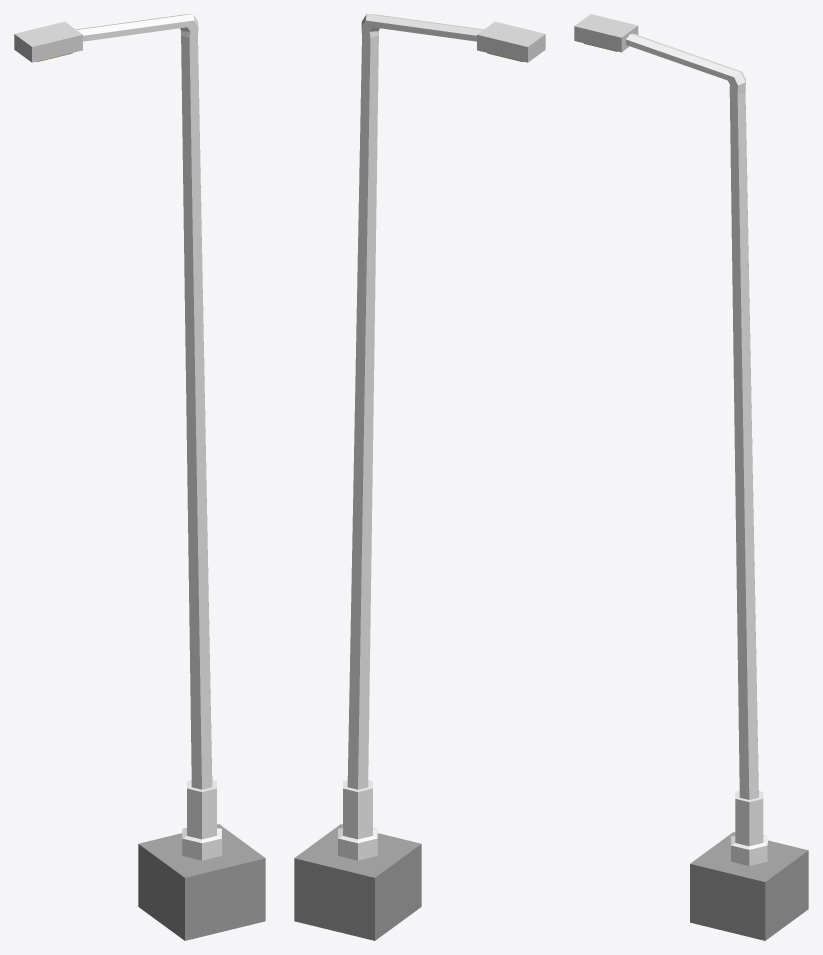
The model's file is lightpole.fbx.
3 views of the same model, side by side, from view 1: azimuth 30°, elevation 25°; view 2: azimuth 150°, elevation 25°; view 3: azimuth 330°, elevation 25° (orthographic). The views are drawn at different scales.
Parts seen in each view (by area): view 1: lightpole; view 2: lightpole; view 3: lightpole.
Part boxes in pixels (left/top/right/bottom): lightpole: left=14, top=14, right=265, bottom=940; lightpole: left=294, top=14, right=545, bottom=940; lightpole: left=574, top=14, right=808, bottom=940.
Bounding box in the file's own units: 271 × 1085 × 100.
Materials: 1 (1 with a texture image).
